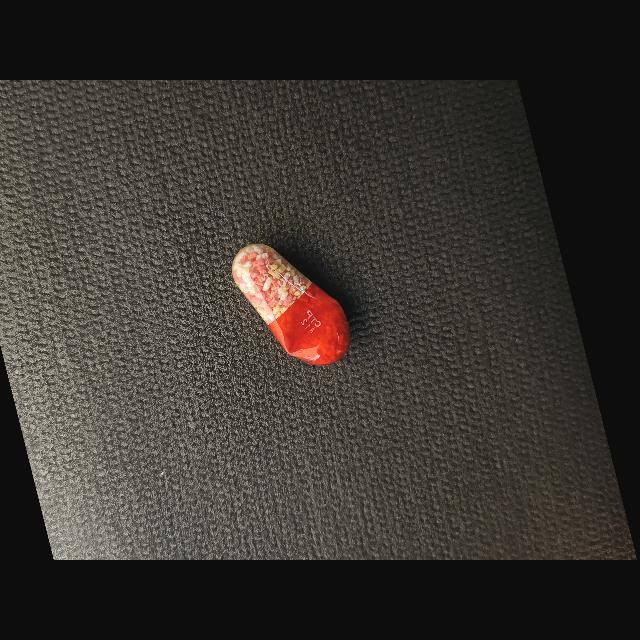Defective Capsule: (232, 244, 350, 365)
